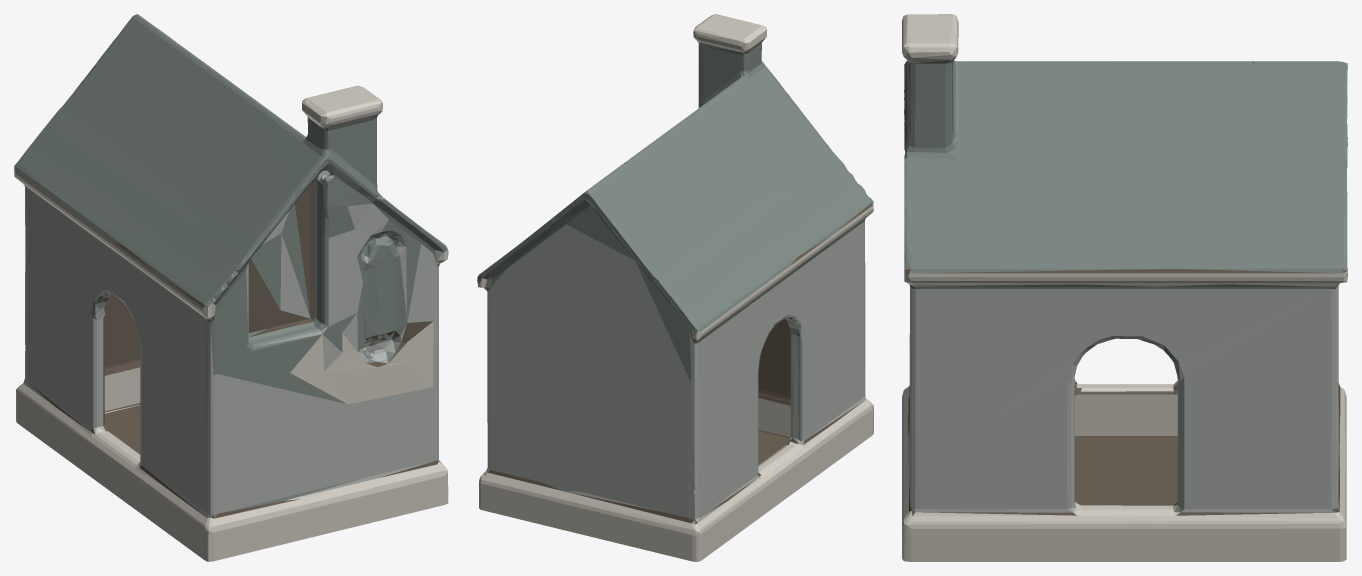
3 renders of one model, left to right at view 1: azimuth 30°, elevation 25°; view 2: azimuth 150°, elevation 25°; view 3: azimuth 270°, elevation 25°, orthographic. The views are drawn at different scales.
Visible parts, largest first — view 1: geometry_0; view 2: geometry_0; view 3: geometry_0.
Boxes of the visible parts, x1=… form: geometry_0: x1=14, y1=14, x2=448, y2=561; geometry_0: x1=477, y1=14, x2=873, y2=561; geometry_0: x1=902, y1=14, x2=1347, y2=561.
Size of the model in its own units: 0.5994 by 0.9801 by 0.8255.
